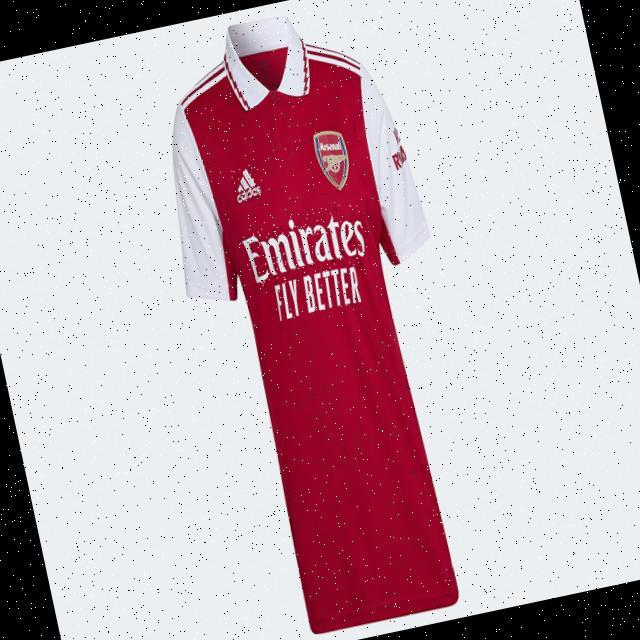Adidas: (230, 164, 263, 204)
Emirates: (238, 202, 370, 288)
